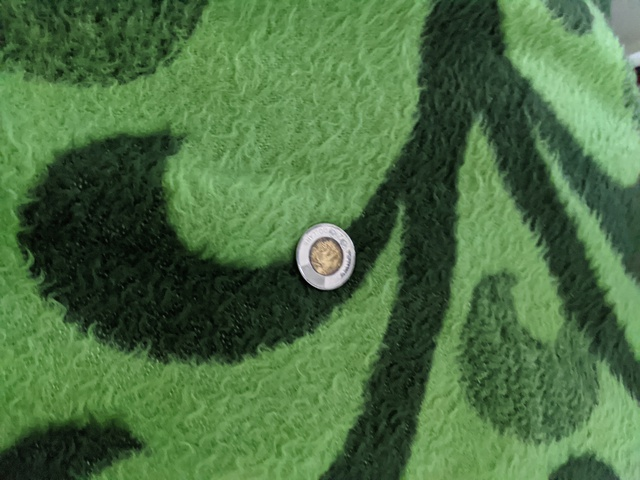twonie: (289, 218, 359, 301)
